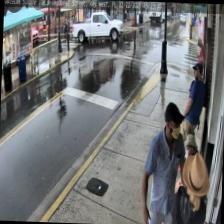person: (139, 101, 189, 224), (176, 60, 204, 172), (170, 151, 210, 224), (176, 132, 201, 214), (194, 37, 204, 92), (199, 19, 203, 39), (196, 19, 200, 39), (190, 14, 194, 31), (194, 16, 198, 33)
